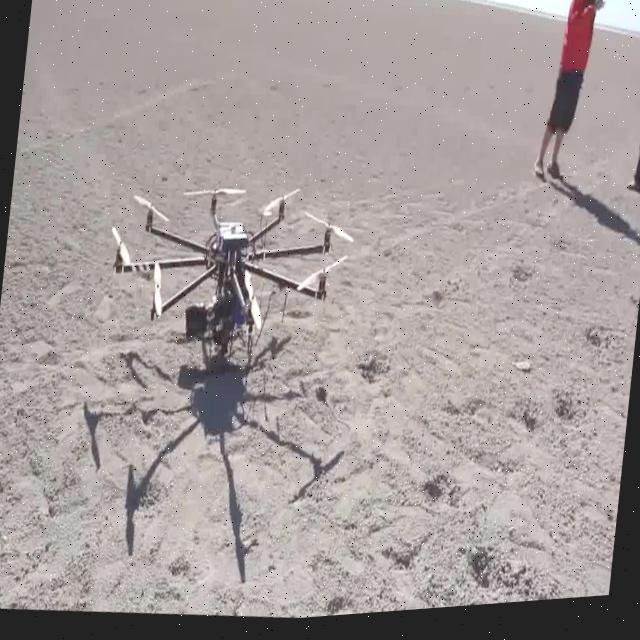drone: (0, 114, 640, 640)
